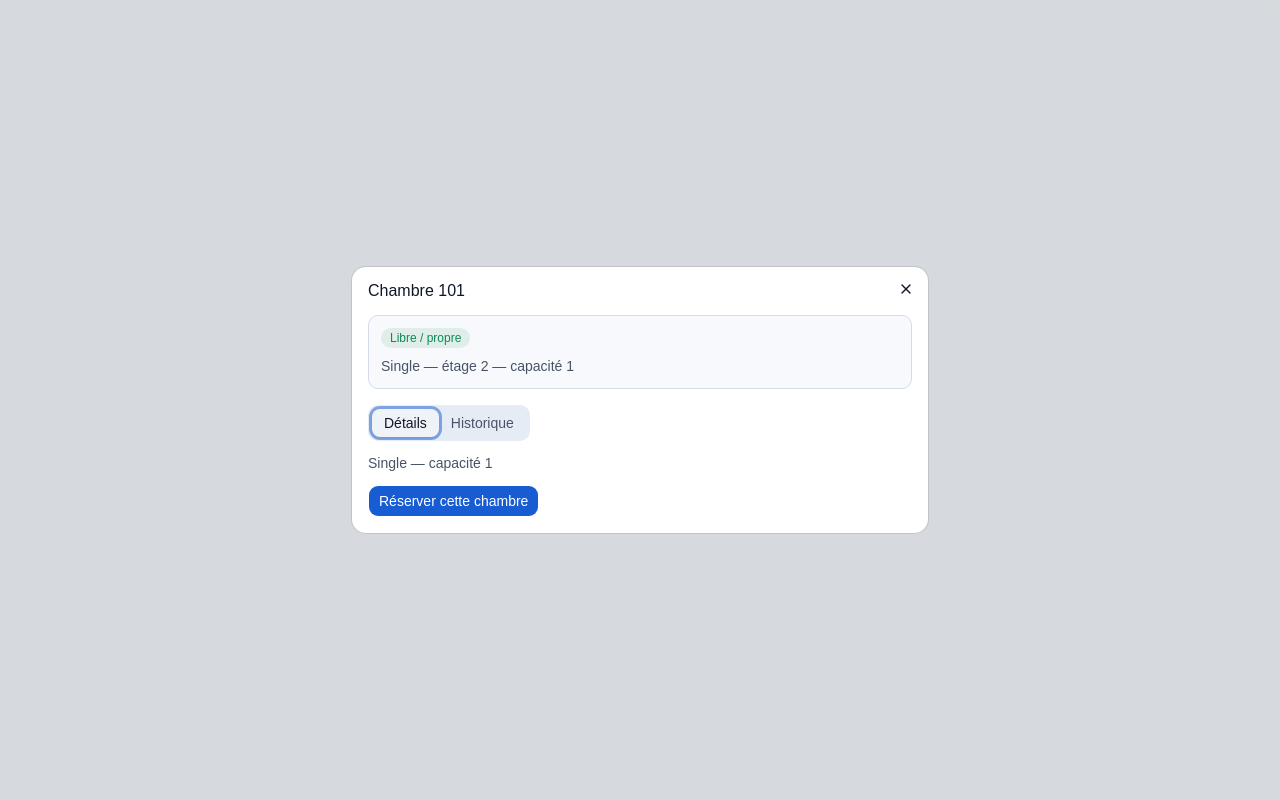
it: RoomContextModal — DESIGN-006 › Historique : fusionne RoomStatusLog, tâche Housekeeping et tickets Maintenance
Click the tab "Historique". click: (482, 423)
box: [439,409,526,437]
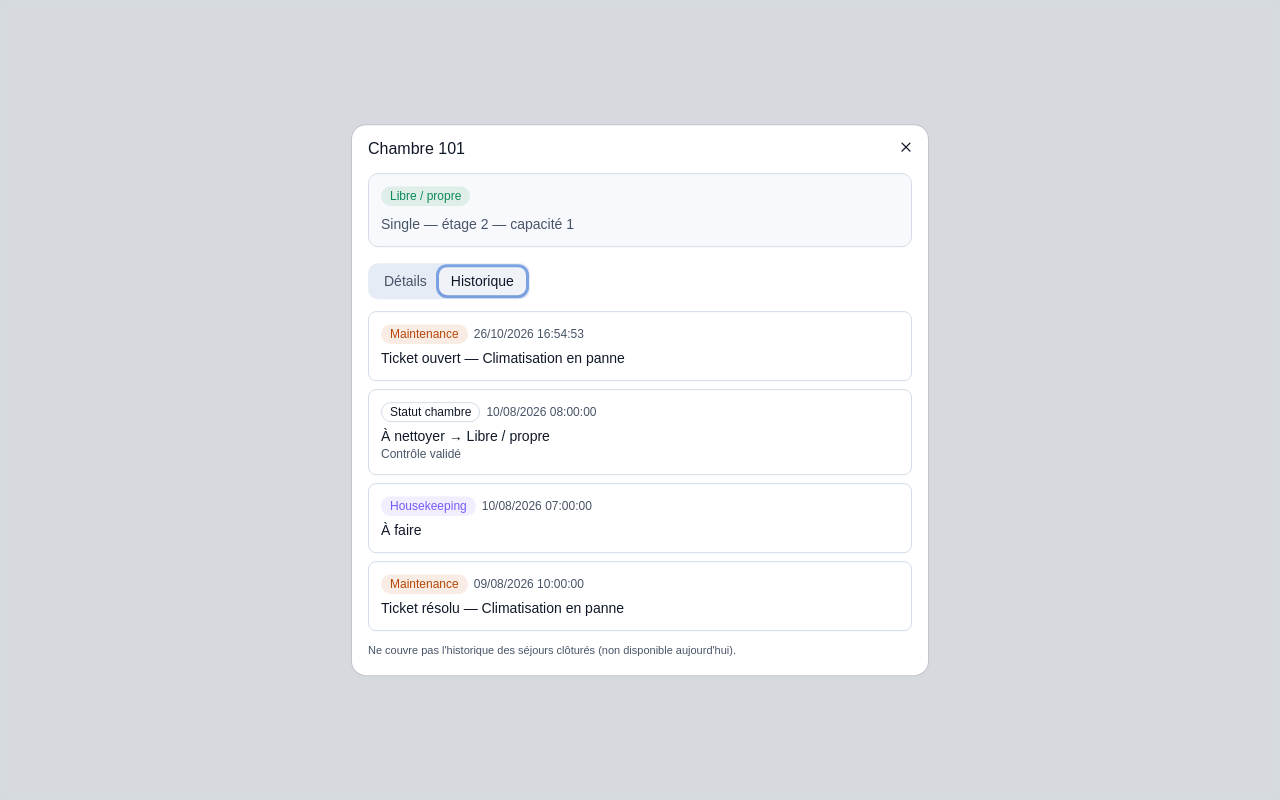
Check: the text "À nettoyer → Libre / propre" is shown, box [381,428,550,444]
Check: the text "Ticket ouvert — Climatisation en panne" is shown, box [381,350,625,366]
Check: the text "Ticket résolu — Climatisation en panne" is shown, box [381,600,624,616]
